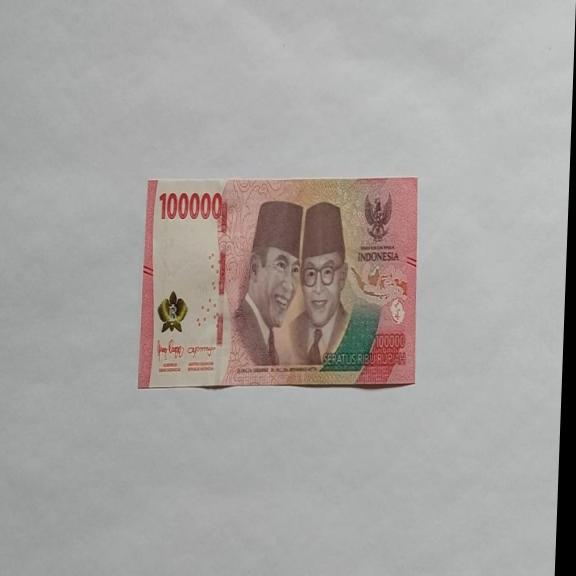Kertas: (137, 176, 423, 390), (157, 189, 224, 222)
